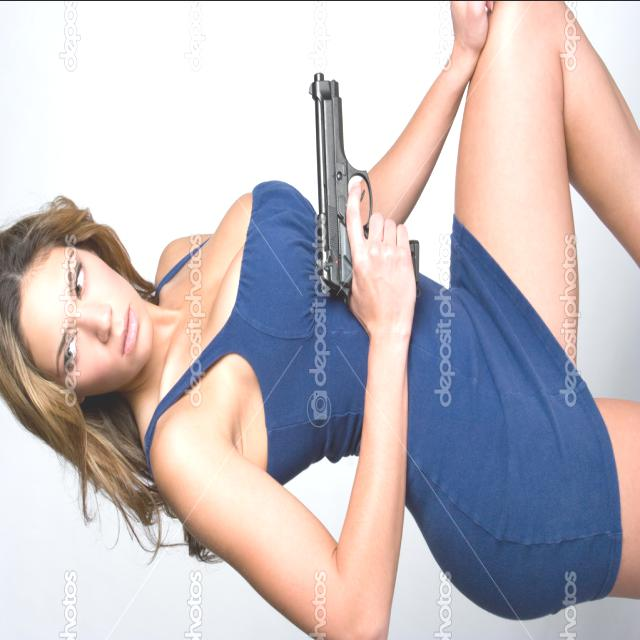handgun: (309, 64, 419, 318)
